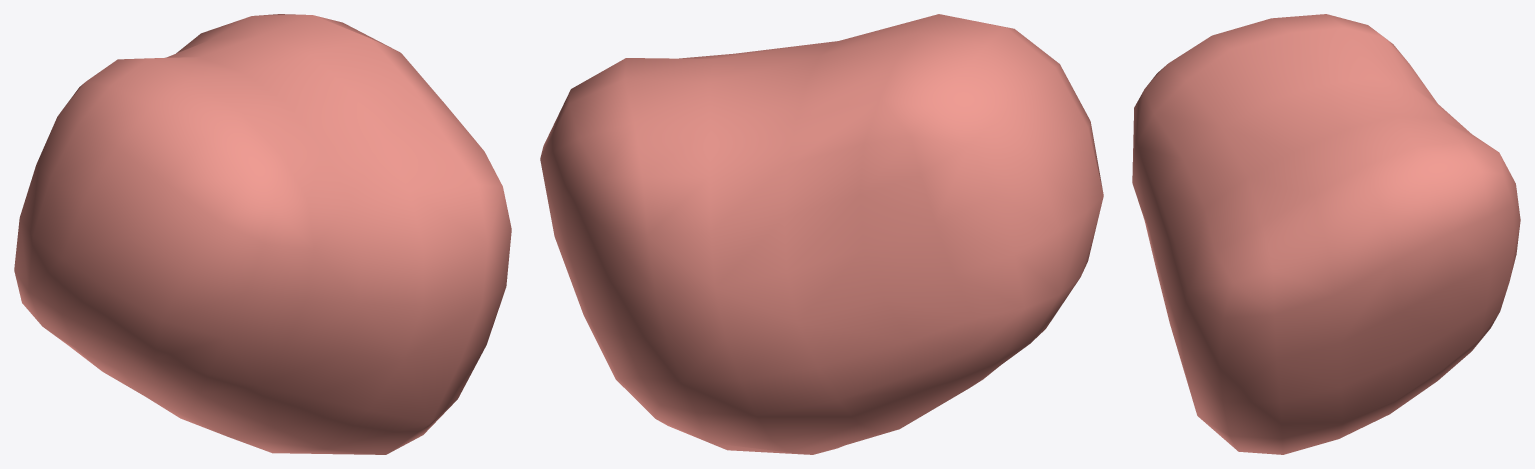
Rendered from mixamo_humanoid_surface_rightHandThumb1.fbx.
3 views of the same model, side by side, from view 1: azimuth 30°, elevation 25°; view 2: azimuth 150°, elevation 25°; view 3: azimuth 270°, elevation 25° (orthographic). The views are drawn at different scales.
Visible parts, largest first — view 1: surface_RightHandThumb1; view 2: surface_RightHandThumb1; view 3: surface_RightHandThumb1.
Boxes of the visible parts, x1,y1,x2,y2 form: surface_RightHandThumb1: (14,14,511,454); surface_RightHandThumb1: (540,14,1103,454); surface_RightHandThumb1: (1132,14,1520,454).
Bounding box in the file's own units: 4.39 × 3.86 × 3.89.
